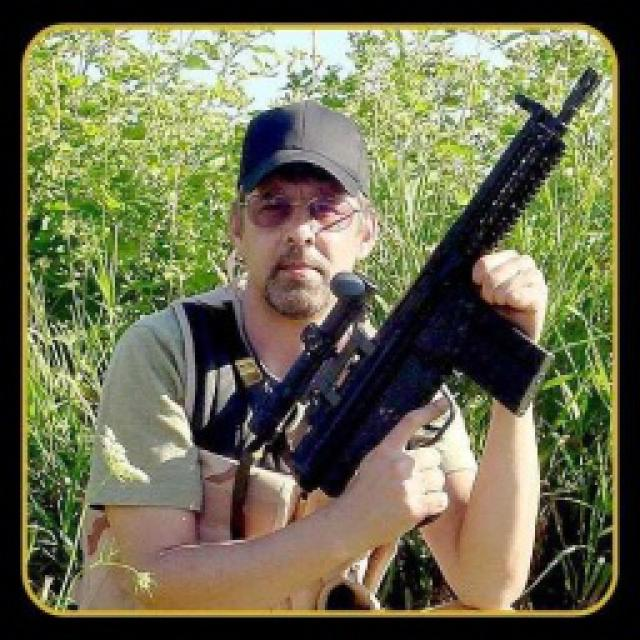long weapon: (204, 46, 601, 579)
